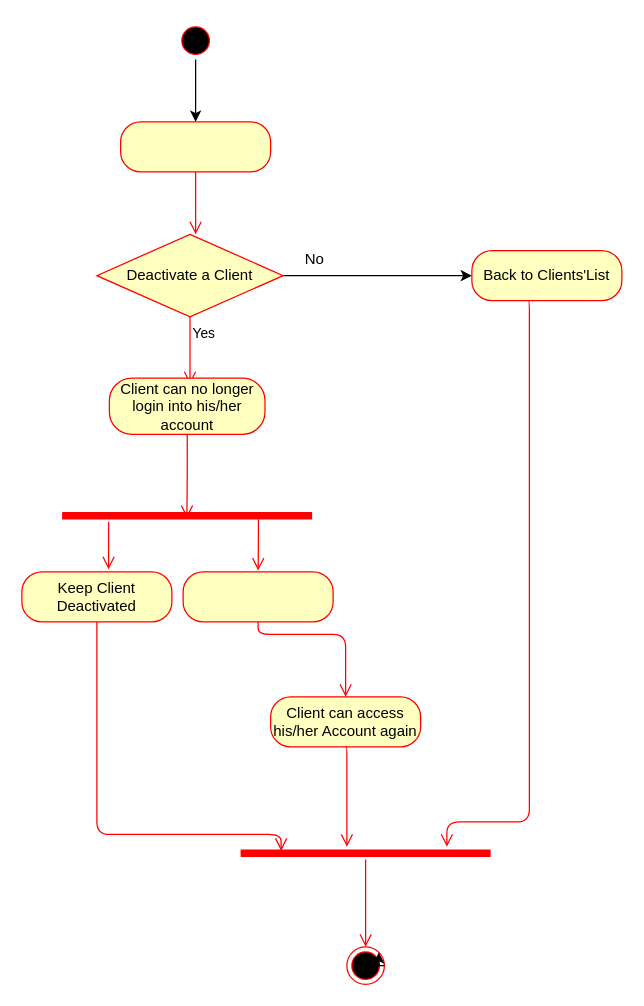
Image size: 644x1006. Some labels were removed from this diagram. The shapes that lost their labels are listed below. From the top down, each one's box as (x1, y1, x2, y2) in pixels, then its label:
(119, 121, 271, 172): Go to Clients' List
(182, 571, 333, 622): Activate Client
